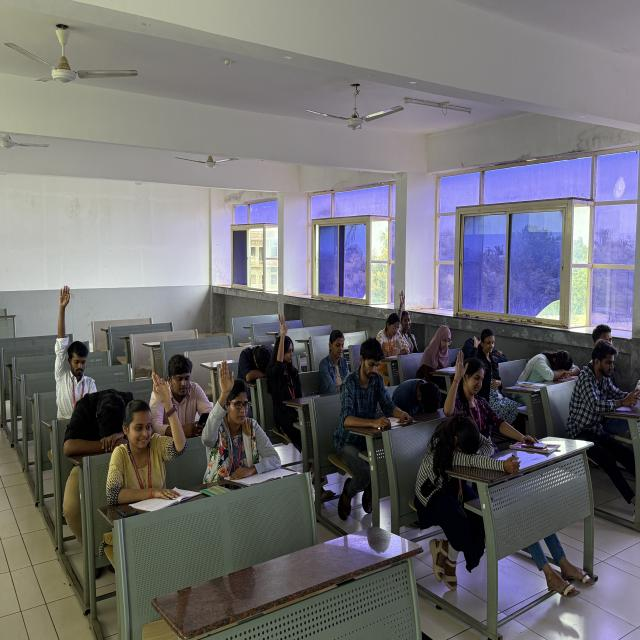Hand Rising: (200, 318, 296, 496), (104, 351, 198, 520), (436, 323, 533, 476), (34, 260, 114, 427), (265, 297, 314, 431), (391, 285, 425, 357)
Reading: (335, 333, 414, 525)
Sleeping: (61, 344, 142, 459), (507, 340, 580, 399), (230, 312, 279, 388), (107, 322, 168, 367)
Using Phone: (567, 319, 640, 469), (151, 348, 213, 439)
